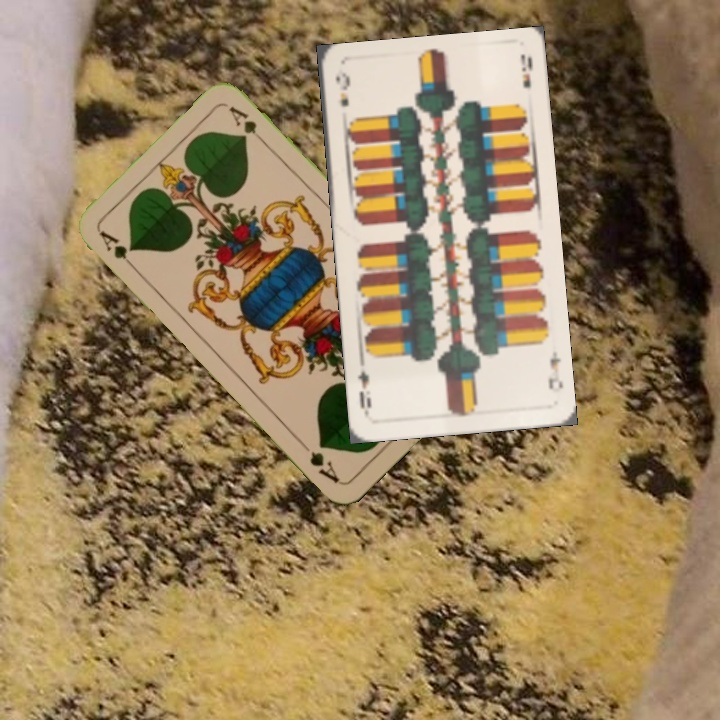E9: (544, 347, 566, 391), (332, 68, 353, 110)
GA: (95, 226, 141, 275)
